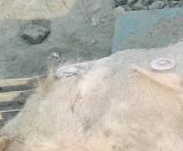text: (141, 48, 181, 81)
